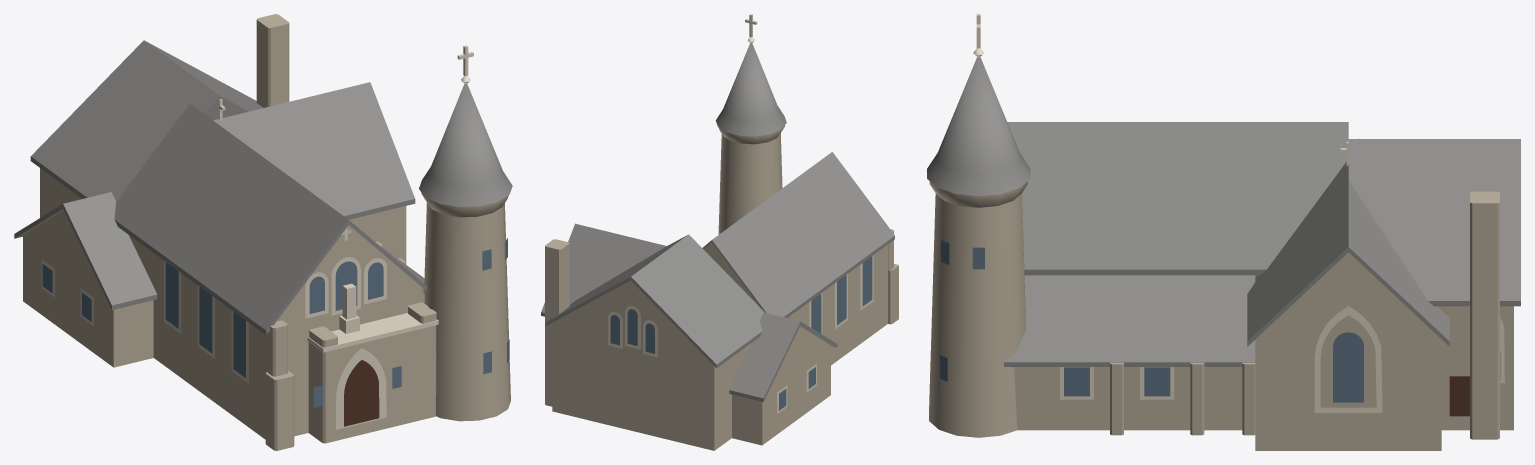
The model's file is ral-sacred-heart-cathedral.glb.
3 views of the same model, side by side, from view 1: azimuth 30°, elevation 25°; view 2: azimuth 150°, elevation 25°; view 3: azimuth 270°, elevation 25° (orthographic). The views are drawn at different scales.
Visible parts, largest first — view 1: Sacred Heart Cathedral; view 2: Sacred Heart Cathedral; view 3: Sacred Heart Cathedral.
Boxes of the visible parts, x1,y1,x2,y2 form: Sacred Heart Cathedral: [14, 14, 512, 450]; Sacred Heart Cathedral: [541, 14, 898, 450]; Sacred Heart Cathedral: [927, 14, 1520, 450].
Bounding box in the file's own units: 19.65 × 22.1 × 29.63.
